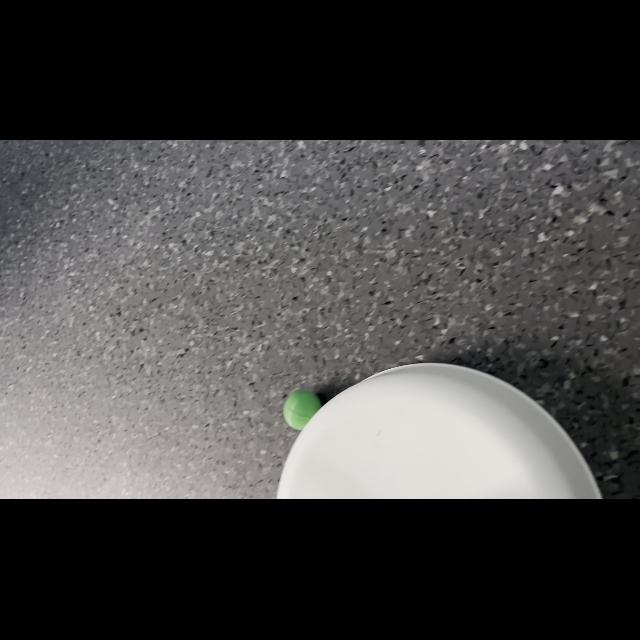objects: (280, 388, 324, 432)
